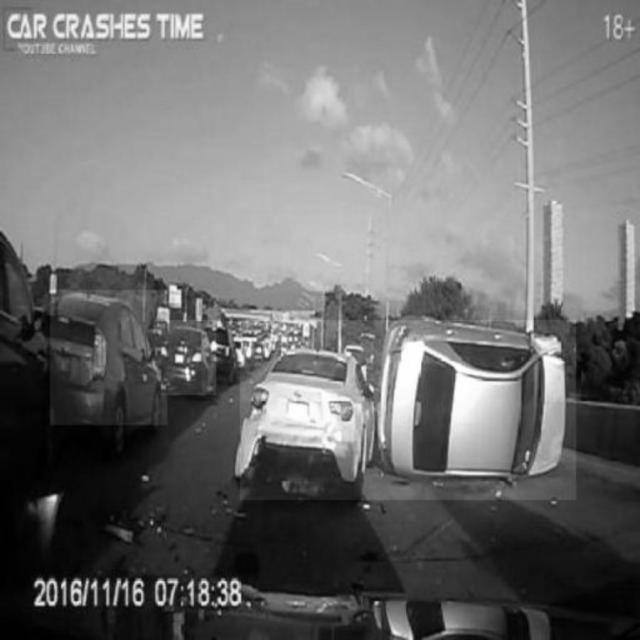accident: (240, 321, 576, 501)
vehicle: (50, 290, 168, 424), (154, 320, 216, 394)
